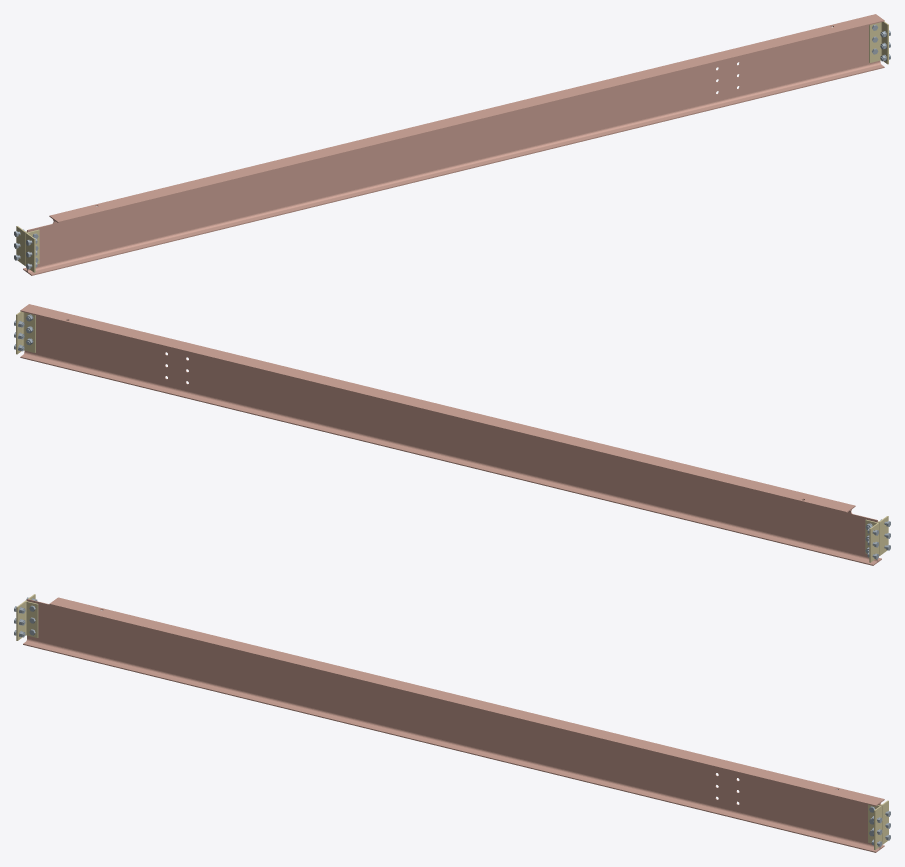
The picture shows the model from 3 angles, top to bottom: view 1: azimuth 30°, elevation 25°; view 2: azimuth 150°, elevation 25°; view 3: azimuth 330°, elevation 25°; orthographic projection.
Parts seen in each view (by area): view 1: product-e463b9e3-8461-43de-bbbe-67d914497c25-body, product-49fd515d-6772-4cda-b754-df0a2f449fd2-body; view 2: product-e463b9e3-8461-43de-bbbe-67d914497c25-body, product-f0b6bdf1-2f81-4da5-a689-5818255d74d6-body; view 3: product-e463b9e3-8461-43de-bbbe-67d914497c25-body, product-ed43d80d-0efb-49a8-8d2b-9a7412bab075-body.
Part boxes in pixels (<box>): product-e463b9e3-8461-43de-bbbe-67d914497c25-body: <box>23,14,884,275</box>; product-49fd515d-6772-4cda-b754-df0a2f449fd2-body: <box>869,21,888,64</box>; product-e463b9e3-8461-43de-bbbe-67d914497c25-body: <box>20,304,881,565</box>; product-f0b6bdf1-2f81-4da5-a689-5818255d74d6-body: <box>16,311,35,354</box>; product-e463b9e3-8461-43de-bbbe-67d914497c25-body: <box>23,597,884,852</box>; product-ed43d80d-0efb-49a8-8d2b-9a7412bab075-body: <box>16,601,38,640</box>.
Bounding box in the file's own units: 5.8 × 0.3048 × 0.2088.
